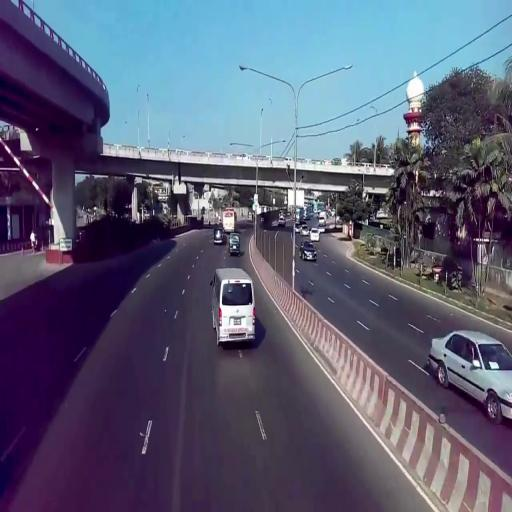bus: (223, 207, 239, 235)
car: (428, 325, 512, 430), (300, 241, 319, 265), (213, 226, 226, 245)
minivan: (227, 229, 242, 258)
van: (209, 266, 259, 349)
